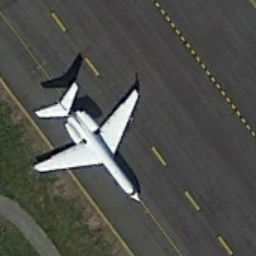Airplane: (21, 71, 159, 220)
